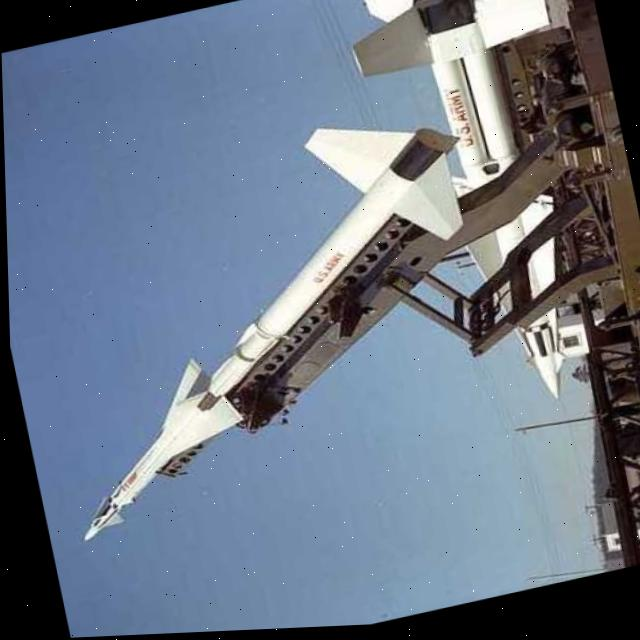missile: (3, 94, 530, 548), (338, 0, 640, 430)
